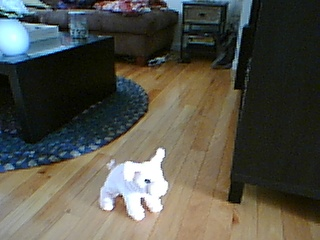piggy: (98, 147, 171, 222)
